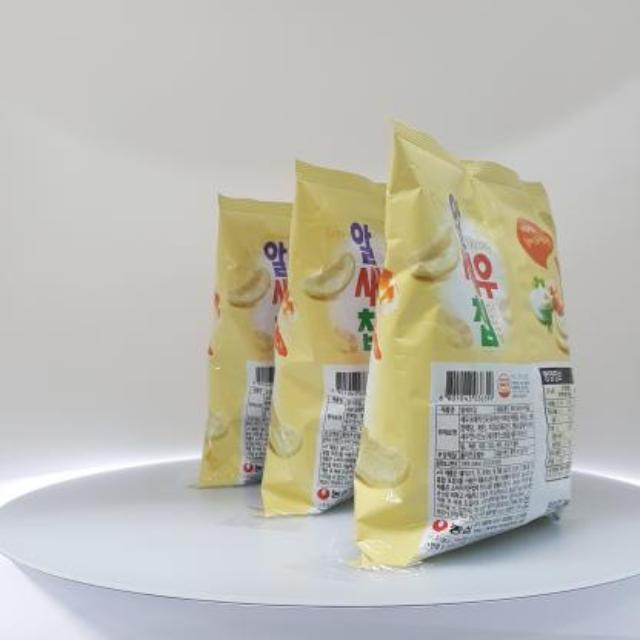snack_bag: (177, 101, 598, 579)
